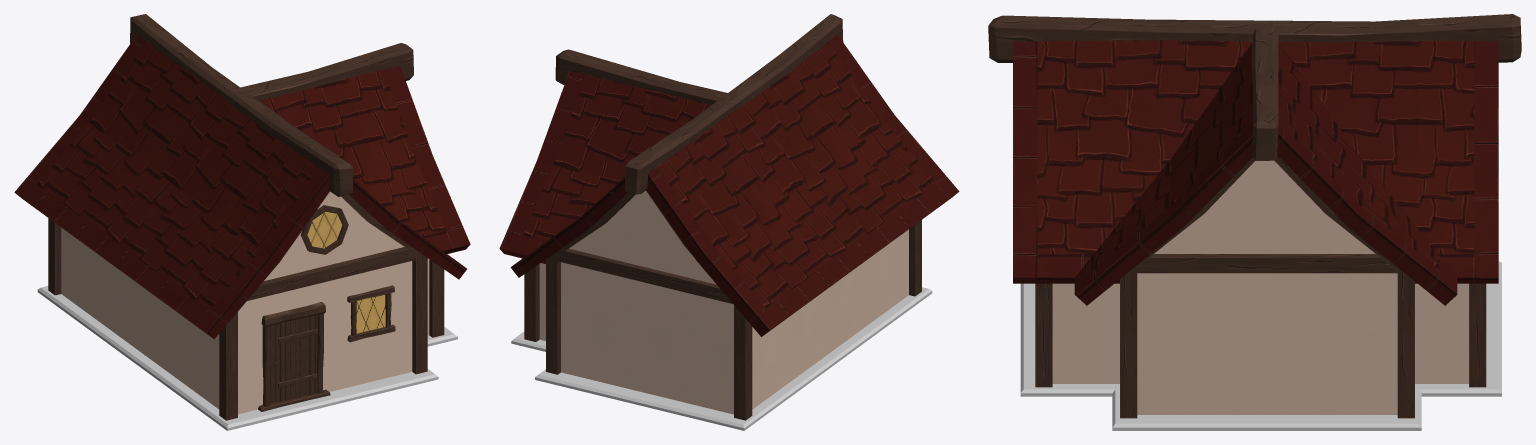
File: HouseC.fbx
The picture shows the model from 3 angles, left to right: view 1: azimuth 30°, elevation 25°; view 2: azimuth 150°, elevation 25°; view 3: azimuth 270°, elevation 25°; orthographic projection. The views are drawn at different scales.
Visible parts, largest first — view 1: House.017; view 2: House.017; view 3: House.017.
Part boxes in pixels (<box>): House.017: <box>14,14,470,430</box>; House.017: <box>499,14,959,430</box>; House.017: <box>988,14,1521,430</box>.
Bounding box in the file's own units: 10.28 × 7.99 × 12.3.
